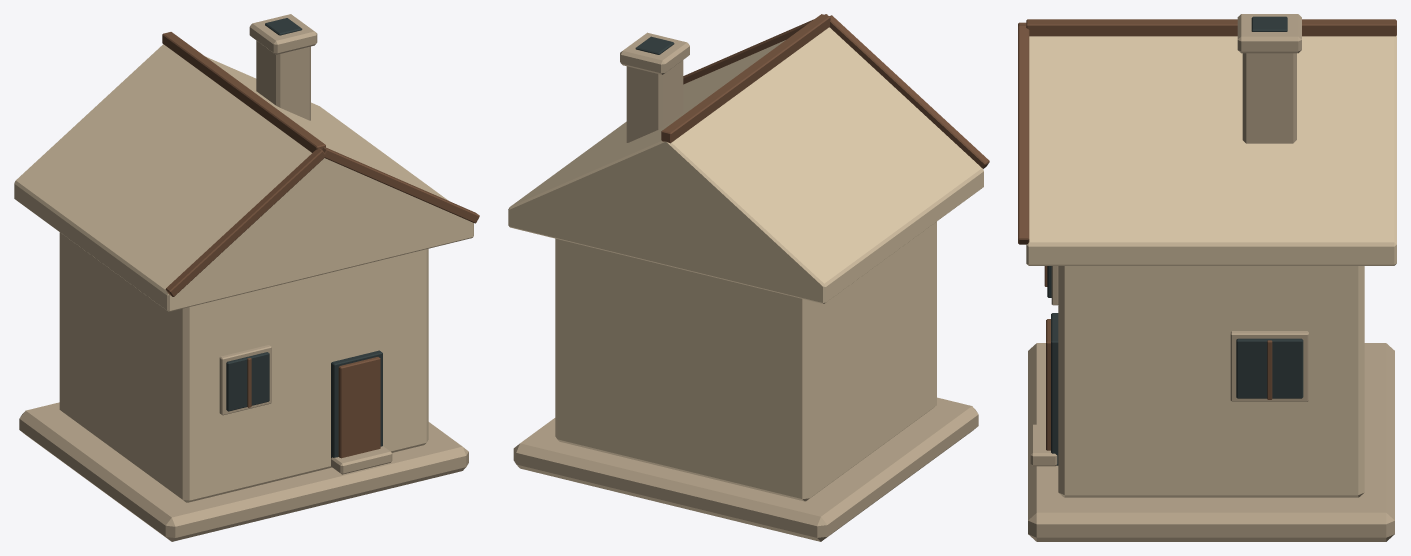
The model's file is settlement.glb.
3 views of the same model, side by side, from view 1: azimuth 30°, elevation 25°; view 2: azimuth 150°, elevation 25°; view 3: azimuth 270°, elevation 25° (orthographic). The views are drawn at different scales.
Parts seen in each view (by area): view 1: Settlement_Asset; view 2: Settlement_Asset; view 3: Settlement_Asset.
Part boxes in pixels (left/top/right/bottom): Settlement_Asset: left=14, top=14, right=479, bottom=541; Settlement_Asset: left=508, top=14, right=989, bottom=541; Settlement_Asset: left=1018, top=14, right=1396, bottom=541.
Bounding box in the file's own units: 0.3458 × 0.4195 × 0.3055.
